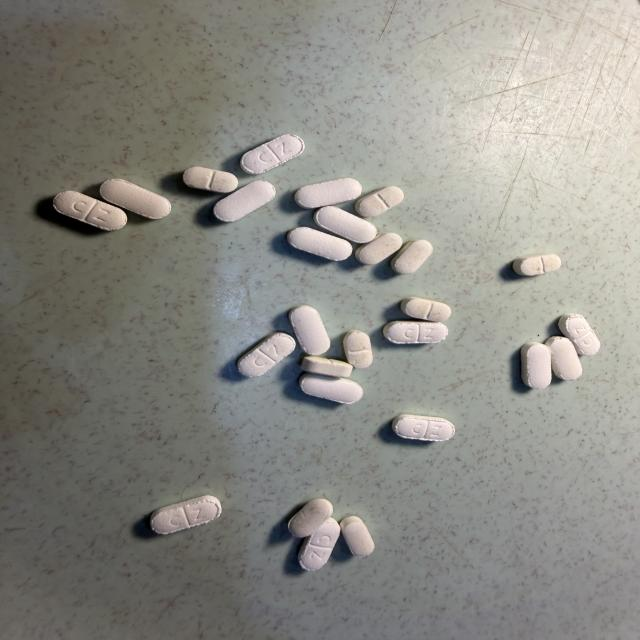pill: (53, 191, 127, 230), (100, 179, 171, 219), (151, 496, 221, 534), (237, 333, 295, 377), (241, 134, 304, 174), (214, 181, 275, 221), (314, 207, 377, 243), (298, 518, 340, 570), (287, 227, 352, 260), (289, 305, 330, 355), (295, 178, 361, 208), (299, 374, 363, 403), (559, 314, 600, 355), (392, 415, 455, 441), (289, 499, 332, 537), (354, 232, 402, 265), (546, 336, 582, 380), (383, 321, 448, 343), (355, 187, 404, 216), (391, 240, 432, 274), (521, 342, 551, 388), (183, 167, 238, 192), (340, 516, 374, 556), (401, 297, 451, 321), (302, 356, 353, 377), (344, 330, 372, 368), (513, 254, 561, 276)
